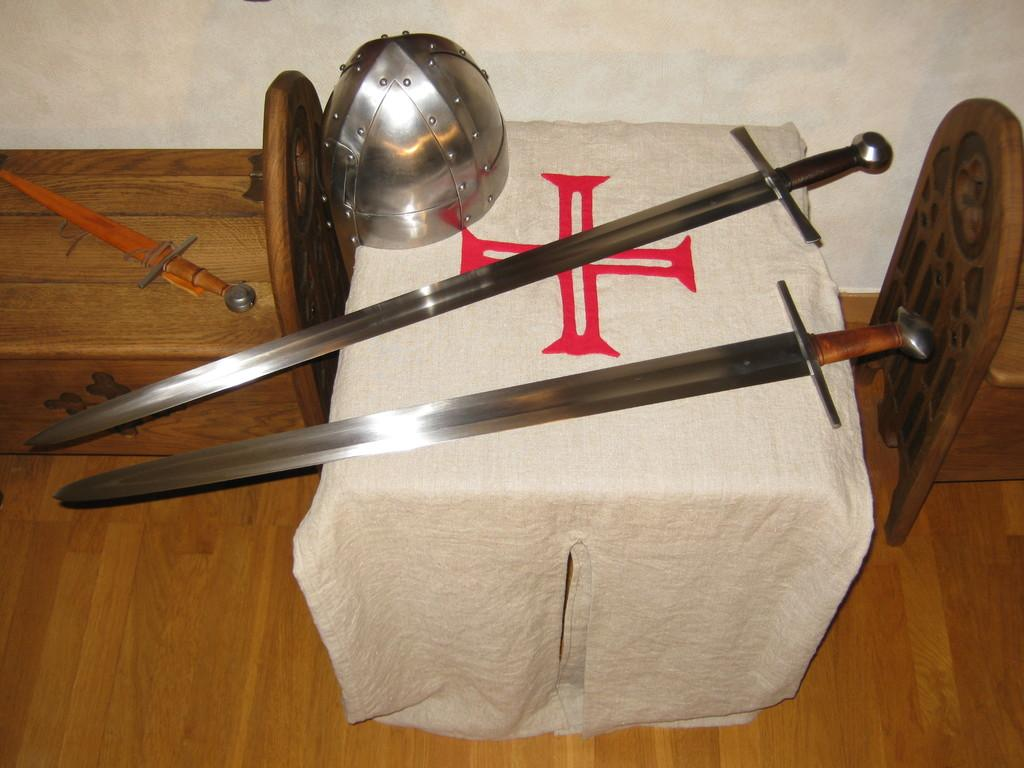Sword: (22, 124, 892, 445), (51, 279, 935, 501), (0, 168, 256, 312)
